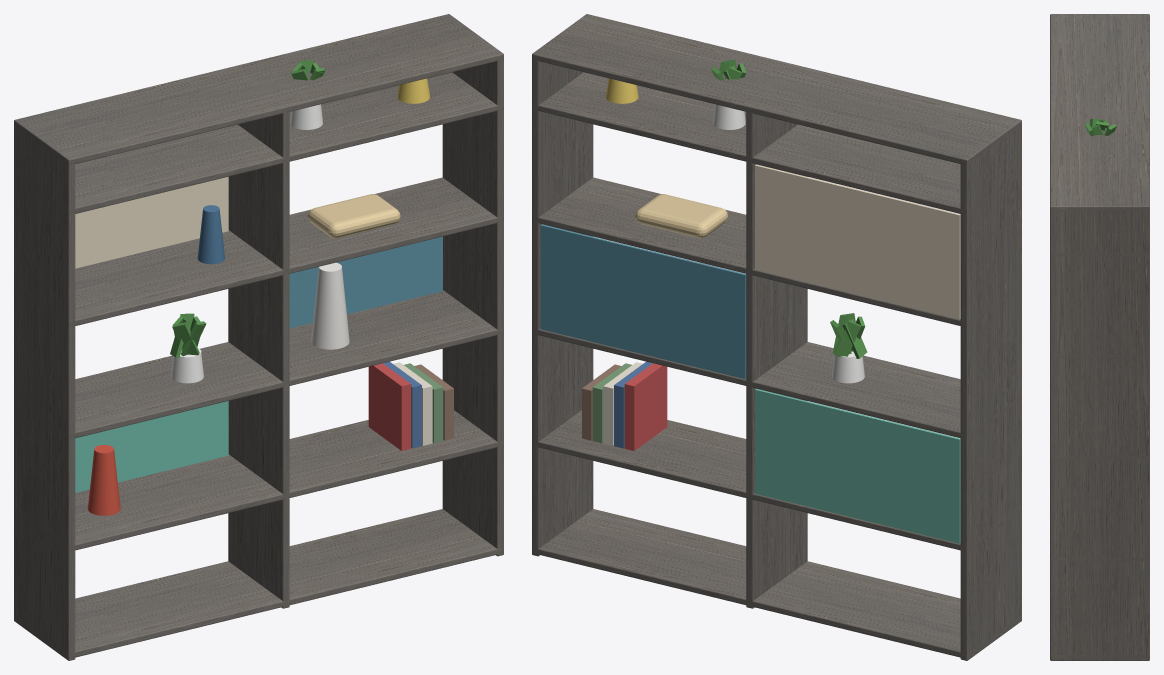
The model's file is hotel-shelving-unit.glb.
The picture shows the model from 3 angles, left to right: view 1: azimuth 30°, elevation 25°; view 2: azimuth 150°, elevation 25°; view 3: azimuth 270°, elevation 25°; orthographic projection. The views are drawn at different scales.
Visible parts, largest first — view 1: upright, shelf.005, shelf, upright.001, upright.002, shelf.002, shelf.003, shelf.001, shelf.004, niche_back.002, niche_back, niche_back.001 (+10 smaller); view 2: upright, shelf.005, shelf, niche_back.001, niche_back, niche_back.002, shelf.004, upright.002, upright.001, shelf.002, shelf.003, shelf.001 (+7 smaller); view 3: upright.002, shelf.005, shelf.001, shelf.004, shelf, shelf.002, shelf.003.
Boxes of the visible parts, x1,y1,x2,y2 form: upright: [14, 125, 75, 660]; shelf.005: [14, 14, 503, 164]; shelf: [14, 509, 503, 658]; upright.001: [228, 111, 289, 608]; upright.002: [442, 58, 503, 556]; shelf.002: [14, 290, 503, 438]; shelf.003: [14, 177, 503, 326]; shelf.001: [14, 410, 503, 551]; shelf.004: [14, 72, 503, 214]; niche_back.002: [75, 176, 228, 268]; niche_back: [75, 401, 228, 492]; niche_back.001: [289, 236, 442, 328]; upright: [960, 125, 1021, 660]; shelf.005: [532, 14, 1021, 164]; shelf: [532, 509, 1021, 658]; niche_back.001: [540, 224, 746, 379]; niche_back: [755, 389, 960, 543]; niche_back.002: [755, 164, 960, 319]; shelf.004: [532, 72, 1021, 214]; upright.002: [532, 59, 593, 556]; upright.001: [746, 111, 807, 608]; shelf.002: [532, 328, 1021, 438]; shelf.003: [532, 177, 1021, 326]; shelf.001: [532, 410, 1021, 551]; upright.002: [1050, 210, 1149, 660]; shelf.005: [1050, 14, 1149, 211]; shelf.001: [1050, 557, 1149, 561]; shelf.004: [1050, 252, 1149, 256]; shelf: [1050, 654, 1149, 658]; shelf.002: [1050, 456, 1149, 459]; shelf.003: [1050, 354, 1149, 357].
Bounding box in the file's own units: 1.83 × 2.05 × 0.4.
Materials: 27 (1 with a texture image).
